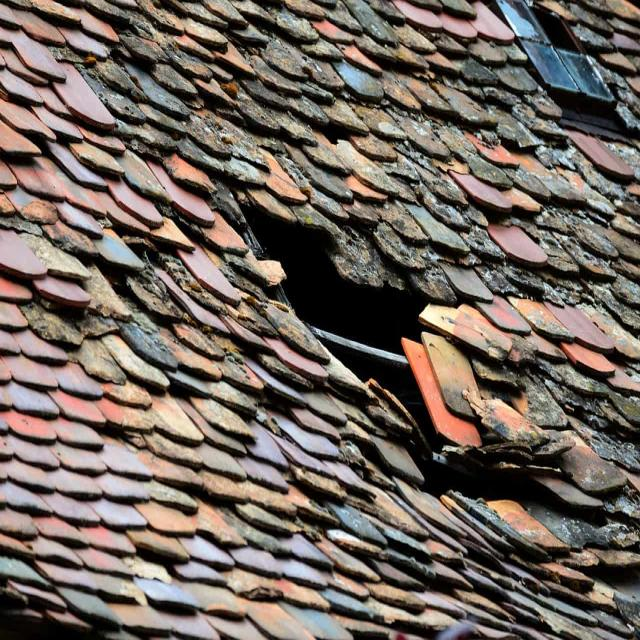damage: (231, 172, 629, 561)
